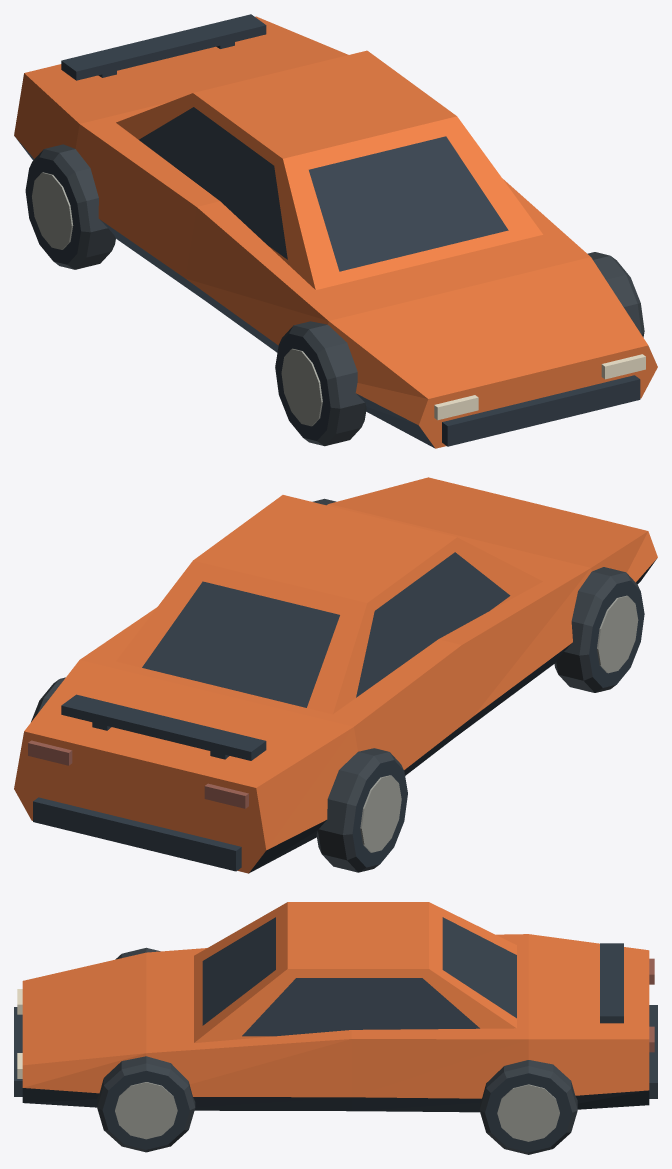
Rendered from coupe.glb.
3 renders of one model, top to bottom at view 1: azimuth 30°, elevation 25°; view 2: azimuth 150°, elevation 25°; view 3: azimuth 270°, elevation 25°, orthographic. The views are drawn at different scales.
Parts seen in each view (by area): view 1: Body, Cabin, Trim, Wheel.FR, Wheel.RR, Wheel.FL; view 2: Body, Cabin, Trim, Wheel.RR, Wheel.FR; view 3: Body, Cabin, Wheel.FL, Wheel.RL, Trim.
Boxes of the visible parts, <box> form: Body: <box>14,16,657,448</box>; Cabin: <box>116,50,542,289</box>; Trim: <box>61,14,645,446</box>; Wheel.FR: <box>275,321,366,446</box>; Wheel.RR: <box>25,144,115,269</box>; Wheel.FL: <box>587,252,644,337</box>; Body: <box>14,477,657,873</box>; Cabin: <box>116,495,542,714</box>; Trim: <box>28,694,266,871</box>; Wheel.RR: <box>316,748,407,872</box>; Wheel.FR: <box>554,567,644,692</box>; Body: <box>22,934,649,1112</box>; Cabin: <box>194,902,516,1042</box>; Wheel.FL: <box>97,1056,195,1152</box>; Wheel.RL: <box>479,1060,577,1154</box>; Trim: <box>14,943,657,1098</box>.
Bounding box in the file's own units: 2.01 × 1.18 × 4.33.
